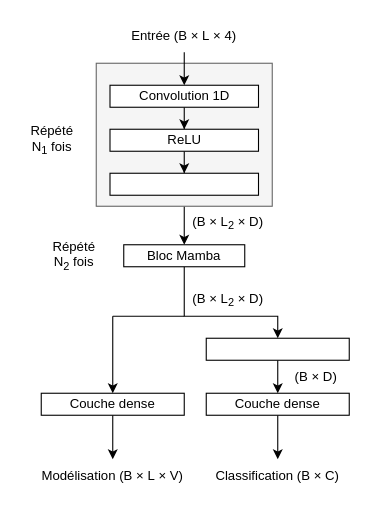
Image size: 378x510. Some labels were removed from this diagram. Each missing label, with the box of its shape:
Moyennage: (205, 337, 349, 360)
Normalisation: (109, 172, 258, 195)
